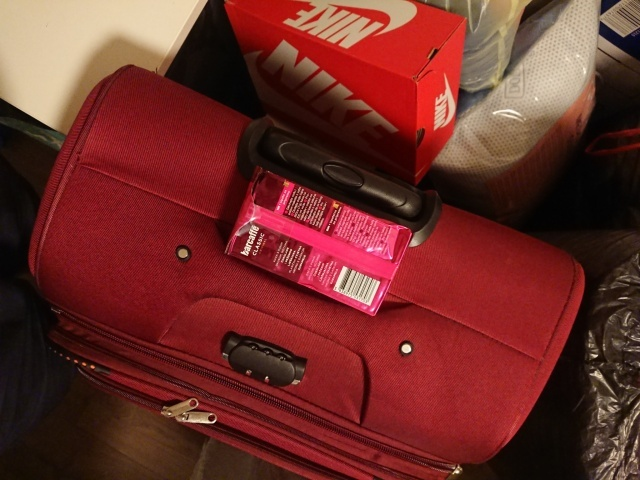Barcaffe Classic Original 225g: (218, 164, 414, 321)
